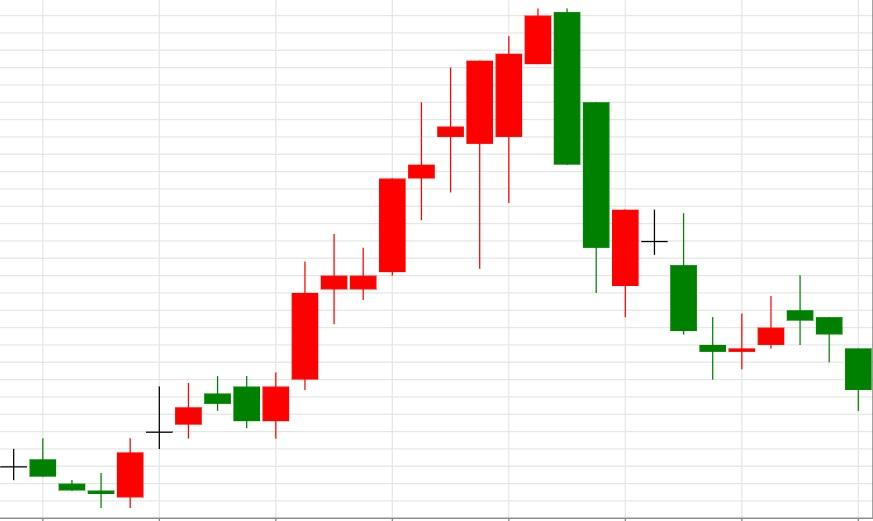bearish_engulfing_fall: (116, 8, 582, 508)
